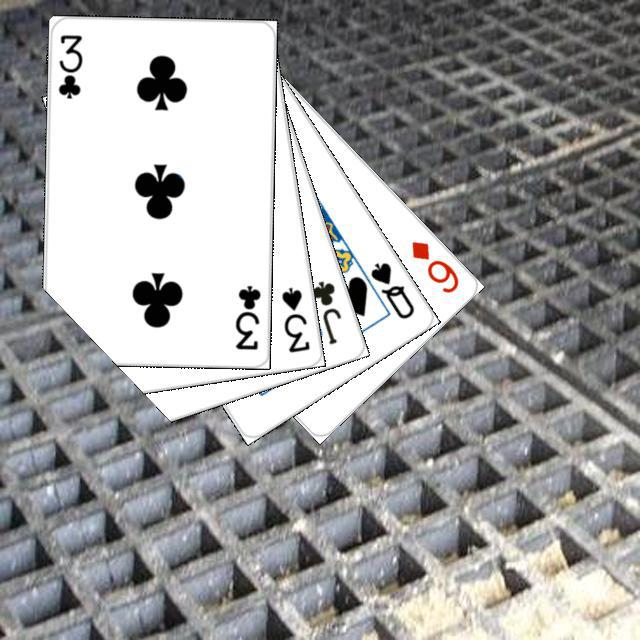3c: (230, 280, 263, 351), (53, 30, 84, 101)
3s: (276, 282, 312, 354)
6d: (406, 236, 461, 295)
Jc: (306, 275, 343, 347)
Qs: (365, 257, 416, 321)
